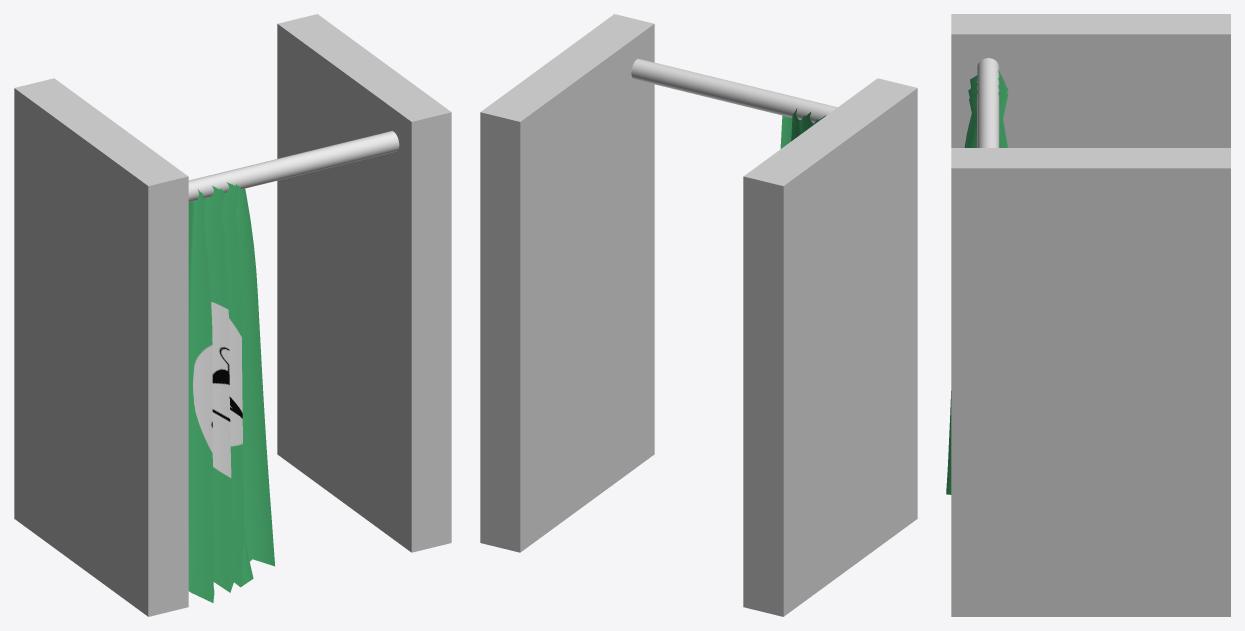
The model's file is curtain_cabin_textured.fbx.
3 views of the same model, side by side, from view 1: azimuth 30°, elevation 25°; view 2: azimuth 150°, elevation 25°; view 3: azimuth 270°, elevation 25° (orthographic). The views are drawn at different scales.
Visible parts, largest first — view 1: Cabin, Curtain; view 2: Cabin, Curtain; view 3: Cabin, Curtain.
Part boxes in pixels (x1,y1,x2,y2): Cabin: (14,14,451,616); Curtain: (188,182,275,602); Cabin: (480,14,917,616); Curtain: (780,108,825,148); Cabin: (951,14,1230,616); Curtain: (946,70,1008,494).
Bounding box in the file's own units: 147 × 201 × 115.
